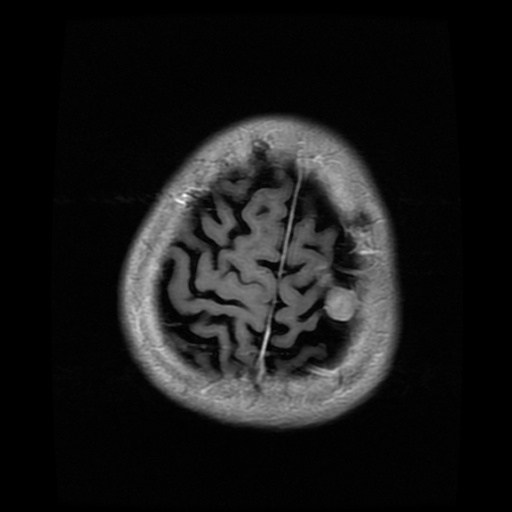meningioma: (325, 285, 358, 319)
